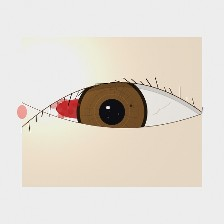hemorrhage_spot: (47, 82, 114, 136)
